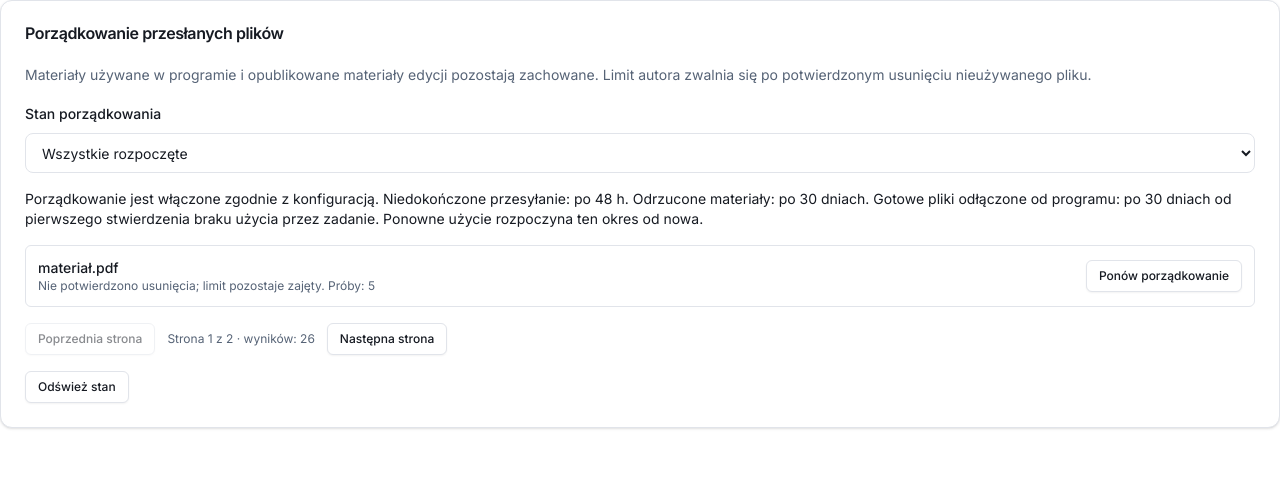
Test: cleanup queue interaction › recovers from transport failure without leaving controls pending
Expected: the text "materiał.pdf" is shown, [38,259,119,276]
Click the button "Ponów porządkowanie" at point(1164, 276), box [1086,260,1242,292]
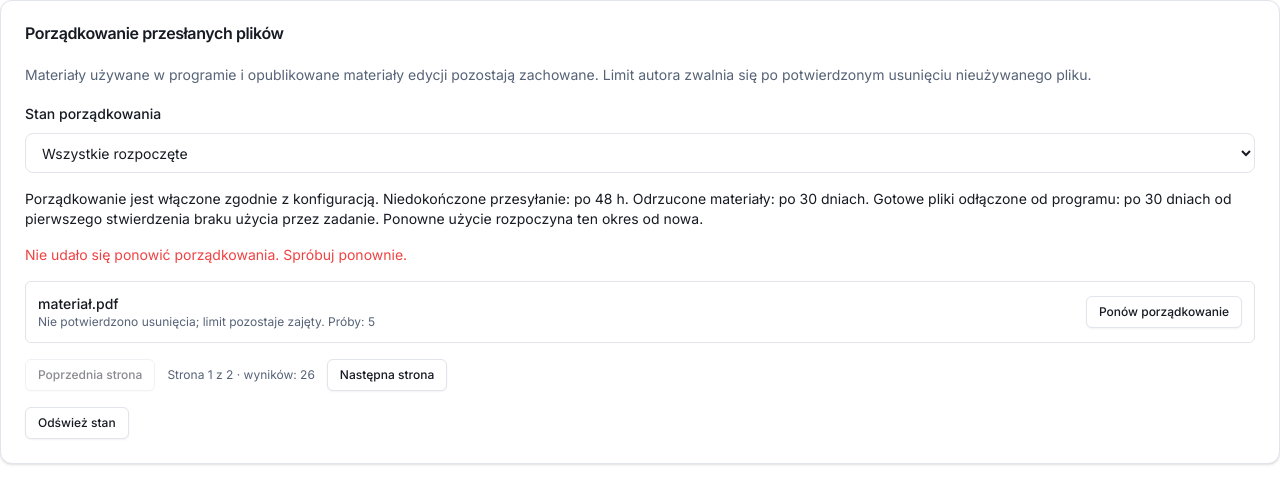
Expected: the button "Ponów porządkowanie" is enabled, [1086,296,1242,328]
Expected: the message "Nie udało się ponowić porządkowania. Spróbuj ponownie." is shown, [25,246,407,263]
